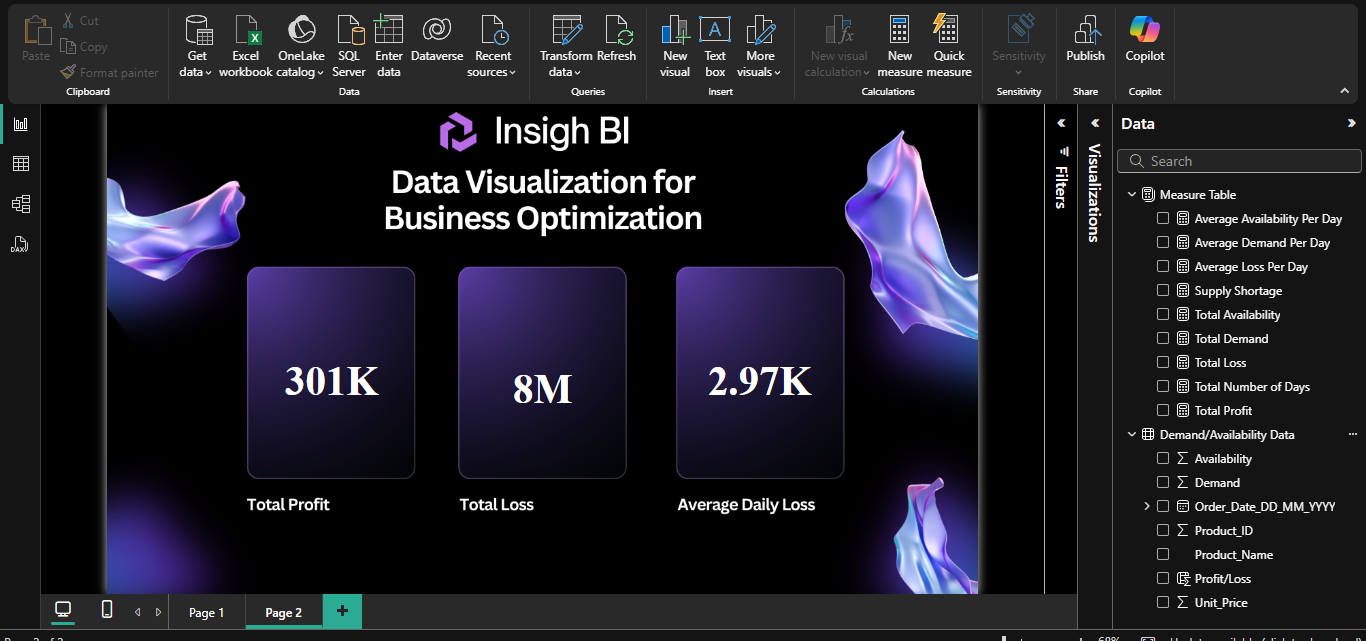

This screenshot's page, from the dashboard's own definition file:
{"tool":"powerbi","page":{"name":"Page 2","canvas":[1280,720],"ordinal":1},"visuals":[{"type":"card","fields":{"Values":["Measure Table.Total Profit"]},"box":[207.2,257.1,245.4,289.5],"z":0},{"type":"card","fields":{"Values":["Measure Table.Total Loss"]},"box":[517.2,268.9,245.4,289.5],"z":1000},{"type":"card","fields":{"Values":["Measure Table.Average Loss Per Day"]},"box":[836.1,257.1,245.4,289.5],"z":2000}]}

Visuals, with their boxes on the page's 1280x720 design canvas (x1, y1, x2, y2). These are canvas units, not pixel positions in the 1366x641 screenshot, which may show the page scaled, cropped or inside an application window:
card - Measure Table.Total Profit: x1=207 y1=257 x2=453 y2=547
card - Measure Table.Total Loss: x1=517 y1=269 x2=763 y2=558
card - Measure Table.Average Loss Per Day: x1=836 y1=257 x2=1082 y2=547
